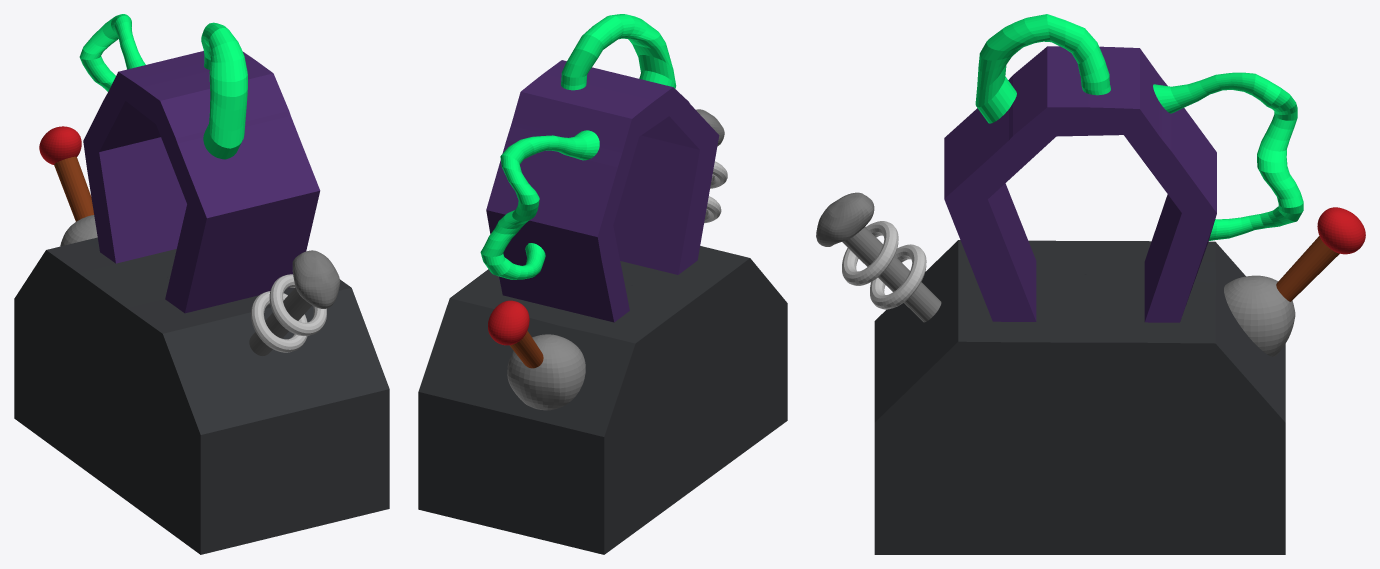
The model's file is Portal.fbx.
3 views of the same model, side by side, from view 1: azimuth 30°, elevation 25°; view 2: azimuth 150°, elevation 25°; view 3: azimuth 270°, elevation 25° (orthographic). The views are drawn at different scales.
Visible parts, largest first — view 1: Cube; view 2: Cube; view 3: Cube.
Boxes of the visible parts, x1=… form: Cube: x1=14, y1=14, x2=389, y2=554; Cube: x1=418, y1=14, x2=787, y2=554; Cube: x1=816, y1=14, x2=1365, y2=554.
Size of the model in its own units: 7.01 by 15.79 by 16.01.
Materials: 1 (1 with a texture image).
